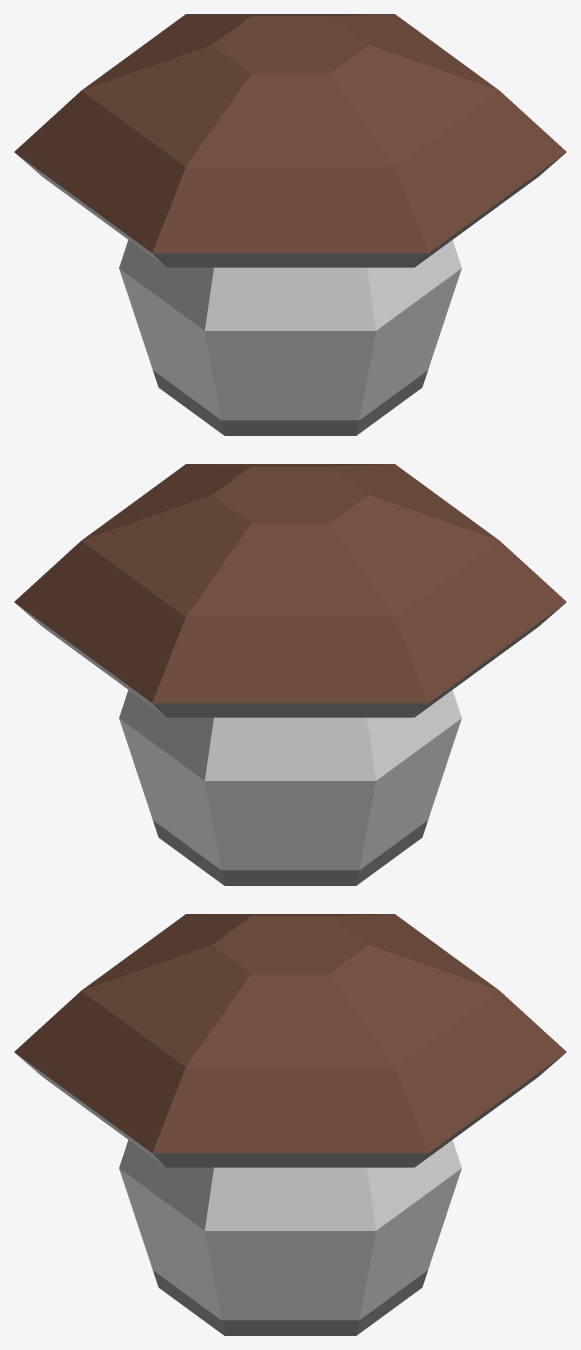
File: item_mushroom.fbx
3 renders of one model, top to bottom at view 1: azimuth 30°, elevation 25°; view 2: azimuth 150°, elevation 25°; view 3: azimuth 270°, elevation 25°, orthographic.
Visible parts, largest first — view 1: item_mushroom; view 2: item_mushroom; view 3: item_mushroom.
Boxes of the visible parts, x1,y1,x2,y2 form: item_mushroom: [14, 14, 566, 435]; item_mushroom: [14, 464, 566, 885]; item_mushroom: [14, 914, 566, 1335].
Bounding box in the file's own units: 3.63 × 4.19 × 2.87.
